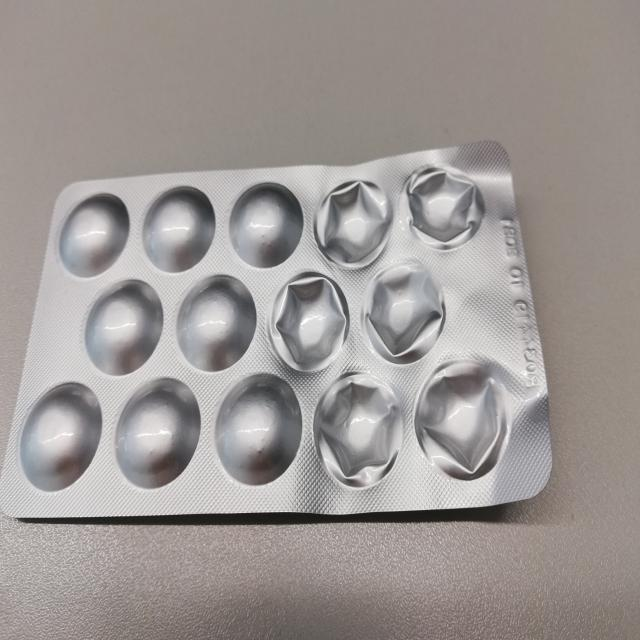Empty: (312, 374, 408, 493), (414, 365, 508, 480), (268, 272, 354, 376), (363, 265, 446, 365), (310, 176, 394, 268), (402, 162, 488, 249)
Pill: (18, 378, 105, 495), (114, 376, 202, 490), (215, 374, 302, 488), (175, 276, 259, 374), (79, 281, 164, 376), (141, 183, 216, 275), (228, 178, 303, 270), (58, 190, 131, 276)
